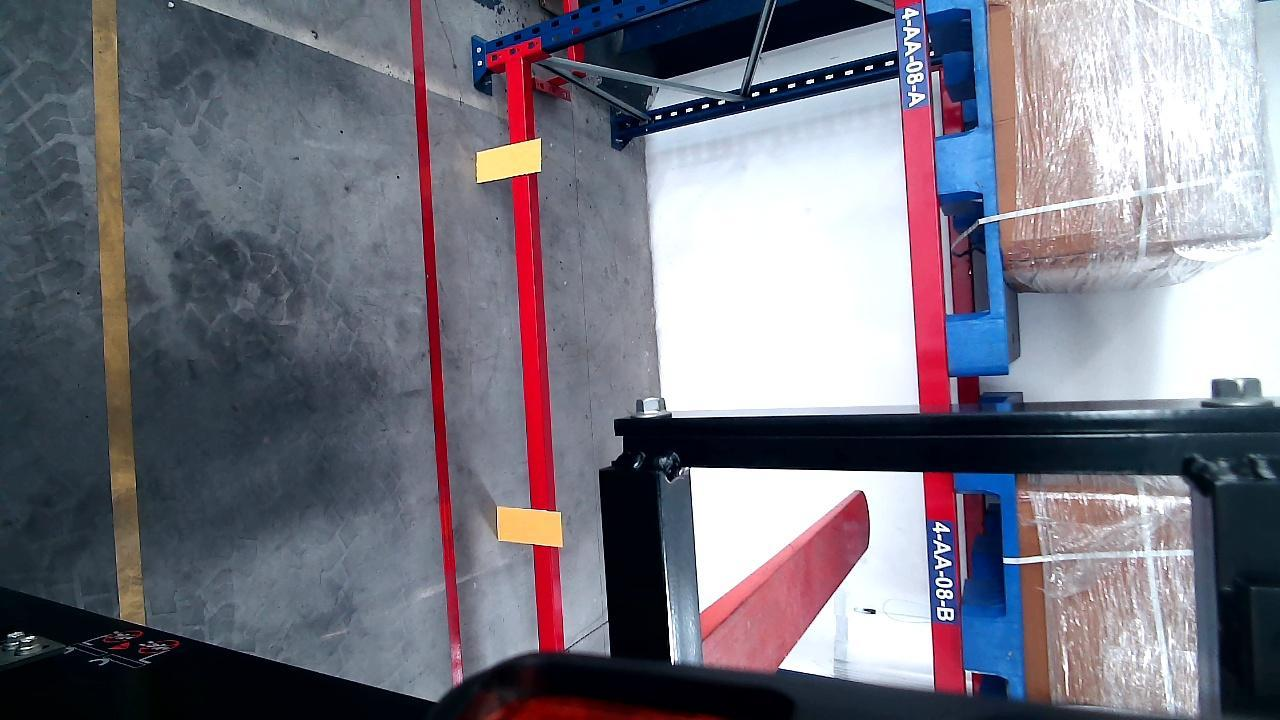red_line: (409, 0, 464, 683)
